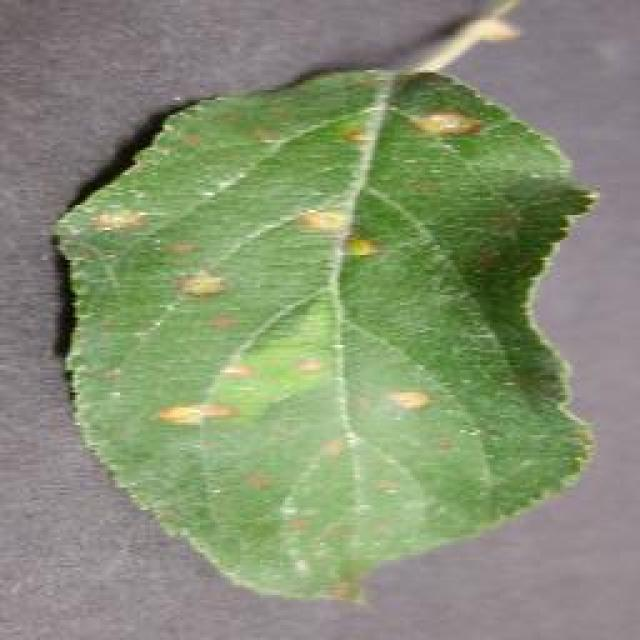apple rust disease: (52, 57, 600, 605)
